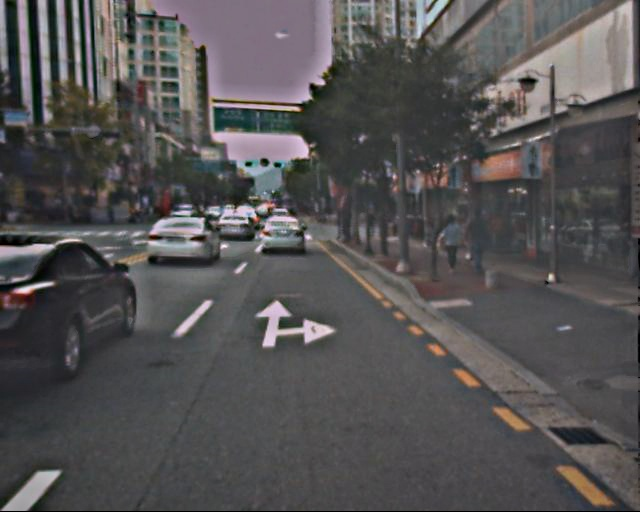person: (463, 206, 491, 275), (439, 215, 464, 275)
